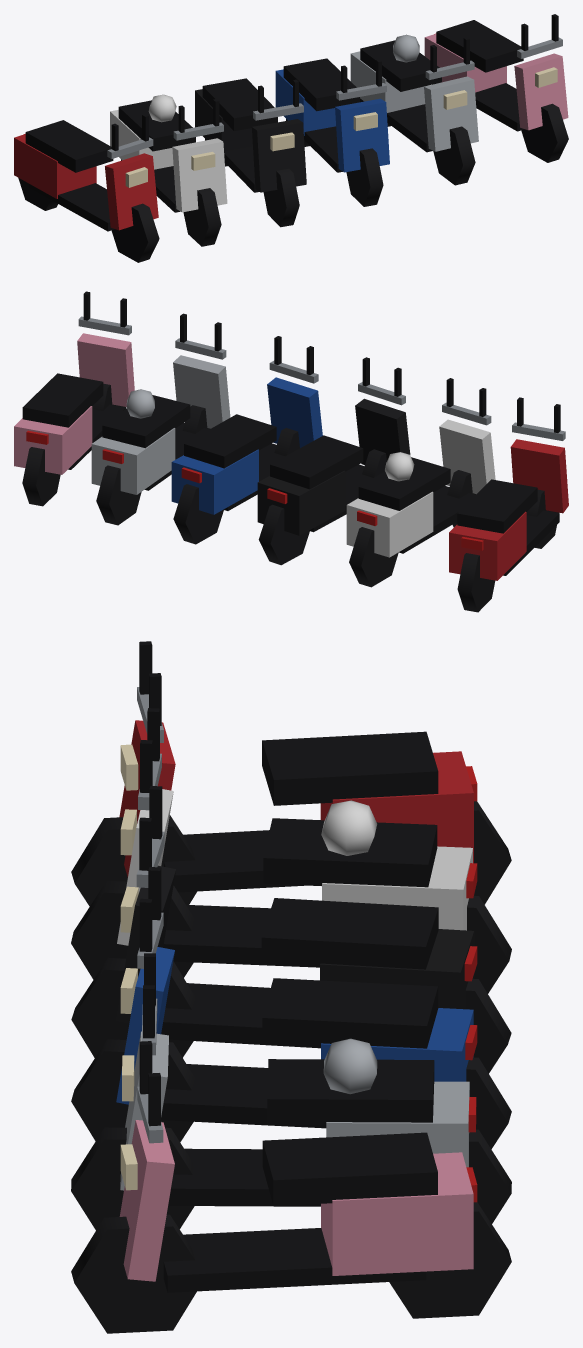
The model's file is parked_motorbike_row.glb.
The picture shows the model from 3 angles, top to bottom: view 1: azimuth 30°, elevation 25°; view 2: azimuth 150°, elevation 25°; view 3: azimuth 270°, elevation 25°; orthographic projection. The views are drawn at different scales.
Visible parts, largest first — view 1: ParkedMotorbikeRow_mat0; view 2: ParkedMotorbikeRow_mat0; view 3: ParkedMotorbikeRow_mat0.
Part boxes in pixels (box(x1,y1,x2,y2)): ParkedMotorbikeRow_mat0: box(14, 14, 568, 262); ParkedMotorbikeRow_mat0: box(14, 291, 568, 612); ParkedMotorbikeRow_mat0: box(71, 641, 511, 1333).
Size of the model in its own units: 4.59 by 1.24 by 1.86.
